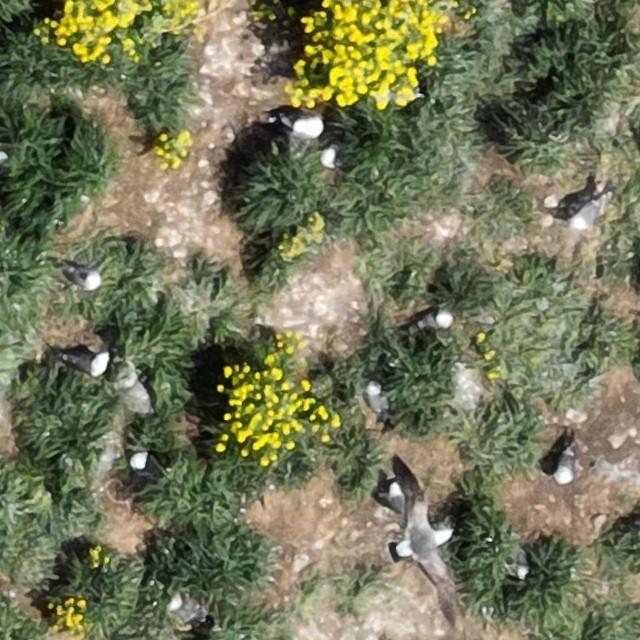F: (398, 501, 452, 581)
umineko: (64, 354, 107, 376), (572, 199, 602, 227), (287, 116, 322, 138), (67, 268, 101, 289), (171, 600, 204, 621), (554, 452, 574, 484), (366, 384, 386, 416), (413, 310, 445, 330), (130, 453, 153, 476), (323, 147, 342, 168)
